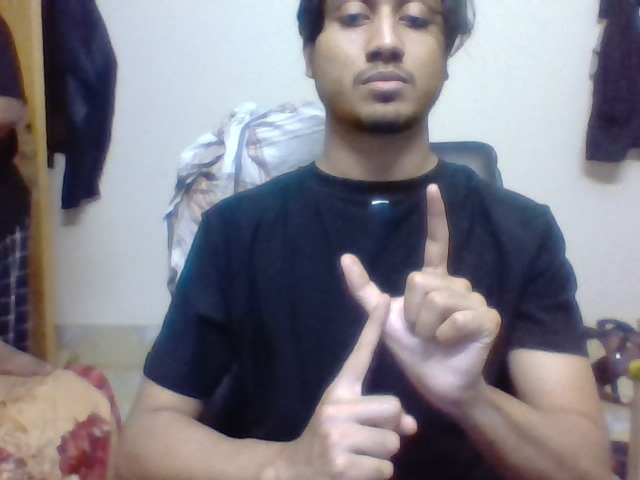Y: (327, 178, 456, 367)
